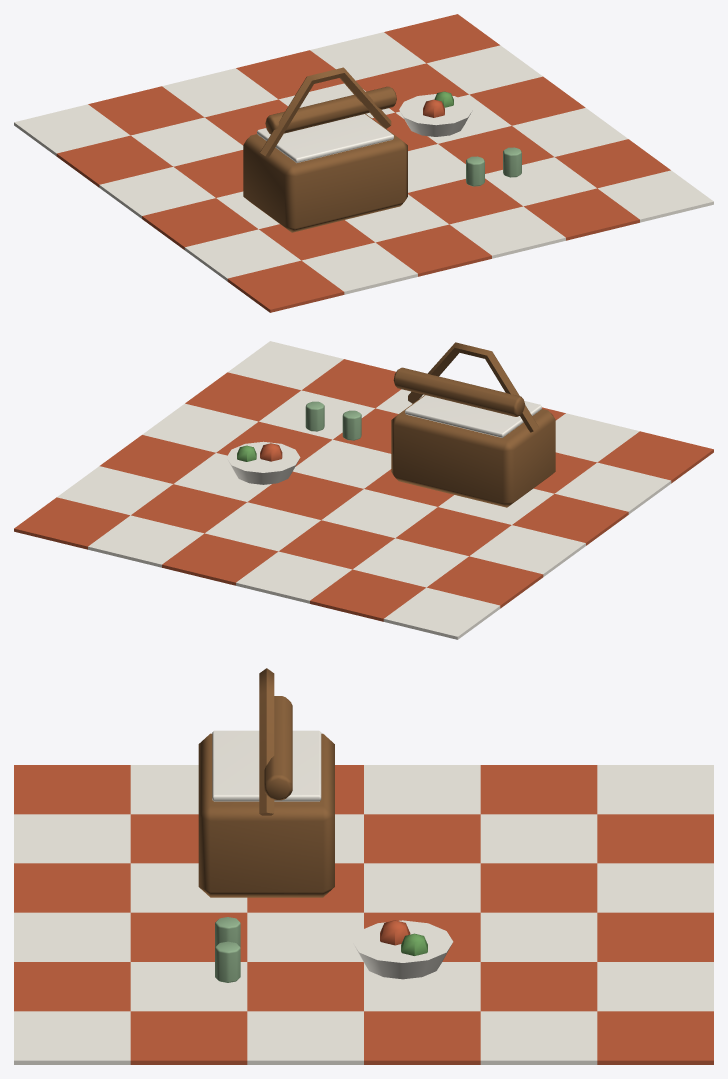
The model's file is picnic_set.glb.
3 views of the same model, one above another, from view 1: azimuth 30°, elevation 25°; view 2: azimuth 150°, elevation 25°; view 3: azimuth 270°, elevation 25° (orthographic). The views are drawn at different scales.
Visible parts, largest first — view 1: picnic_set; view 2: picnic_set; view 3: picnic_set.
Part boxes in pixels (bbox=[...]): picnic_set: bbox=[14, 14, 713, 312]; picnic_set: bbox=[14, 341, 713, 639]; picnic_set: bbox=[14, 668, 713, 1064].
Bounding box in the file's own units: 1.8 × 0.5322 × 1.8.
